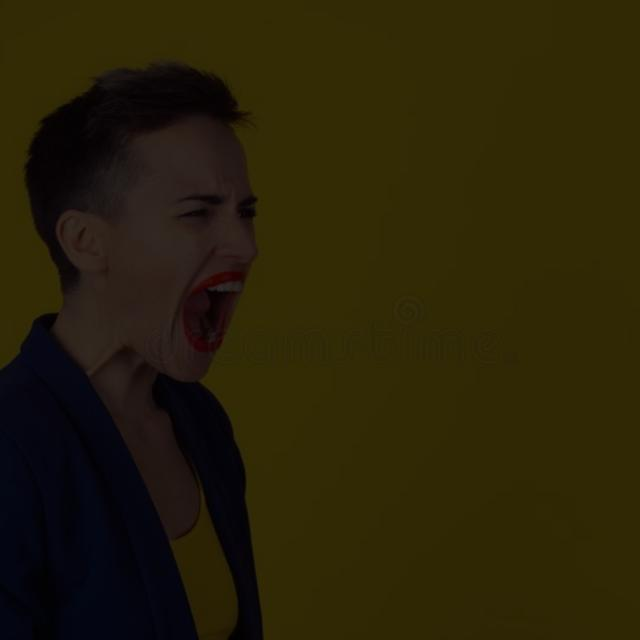Angry: (59, 62, 309, 429)
